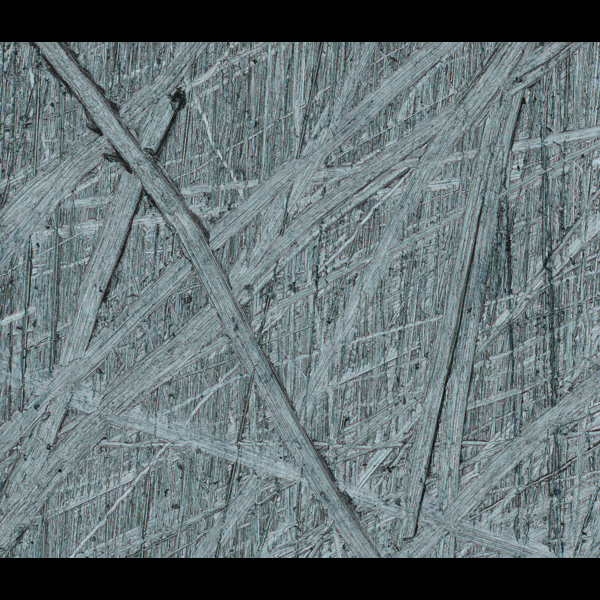d: (4, 44, 594, 557)
